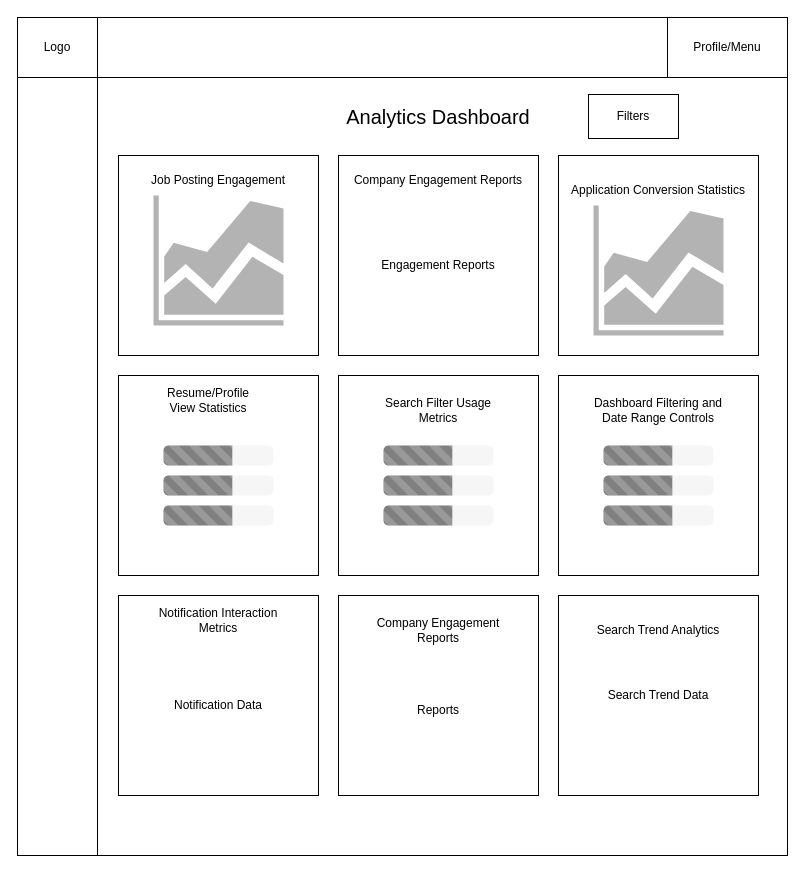
Image size: 805x873. Some labels were removed from this diagram. The shapes that lost their labels are listed below. From the top down, each one's centre as x and y in pixels, then its label:
the point at 382,47: Search Bar
the point at 57,466: Dashboard Profile Jobs Resume Notifications News Feed
